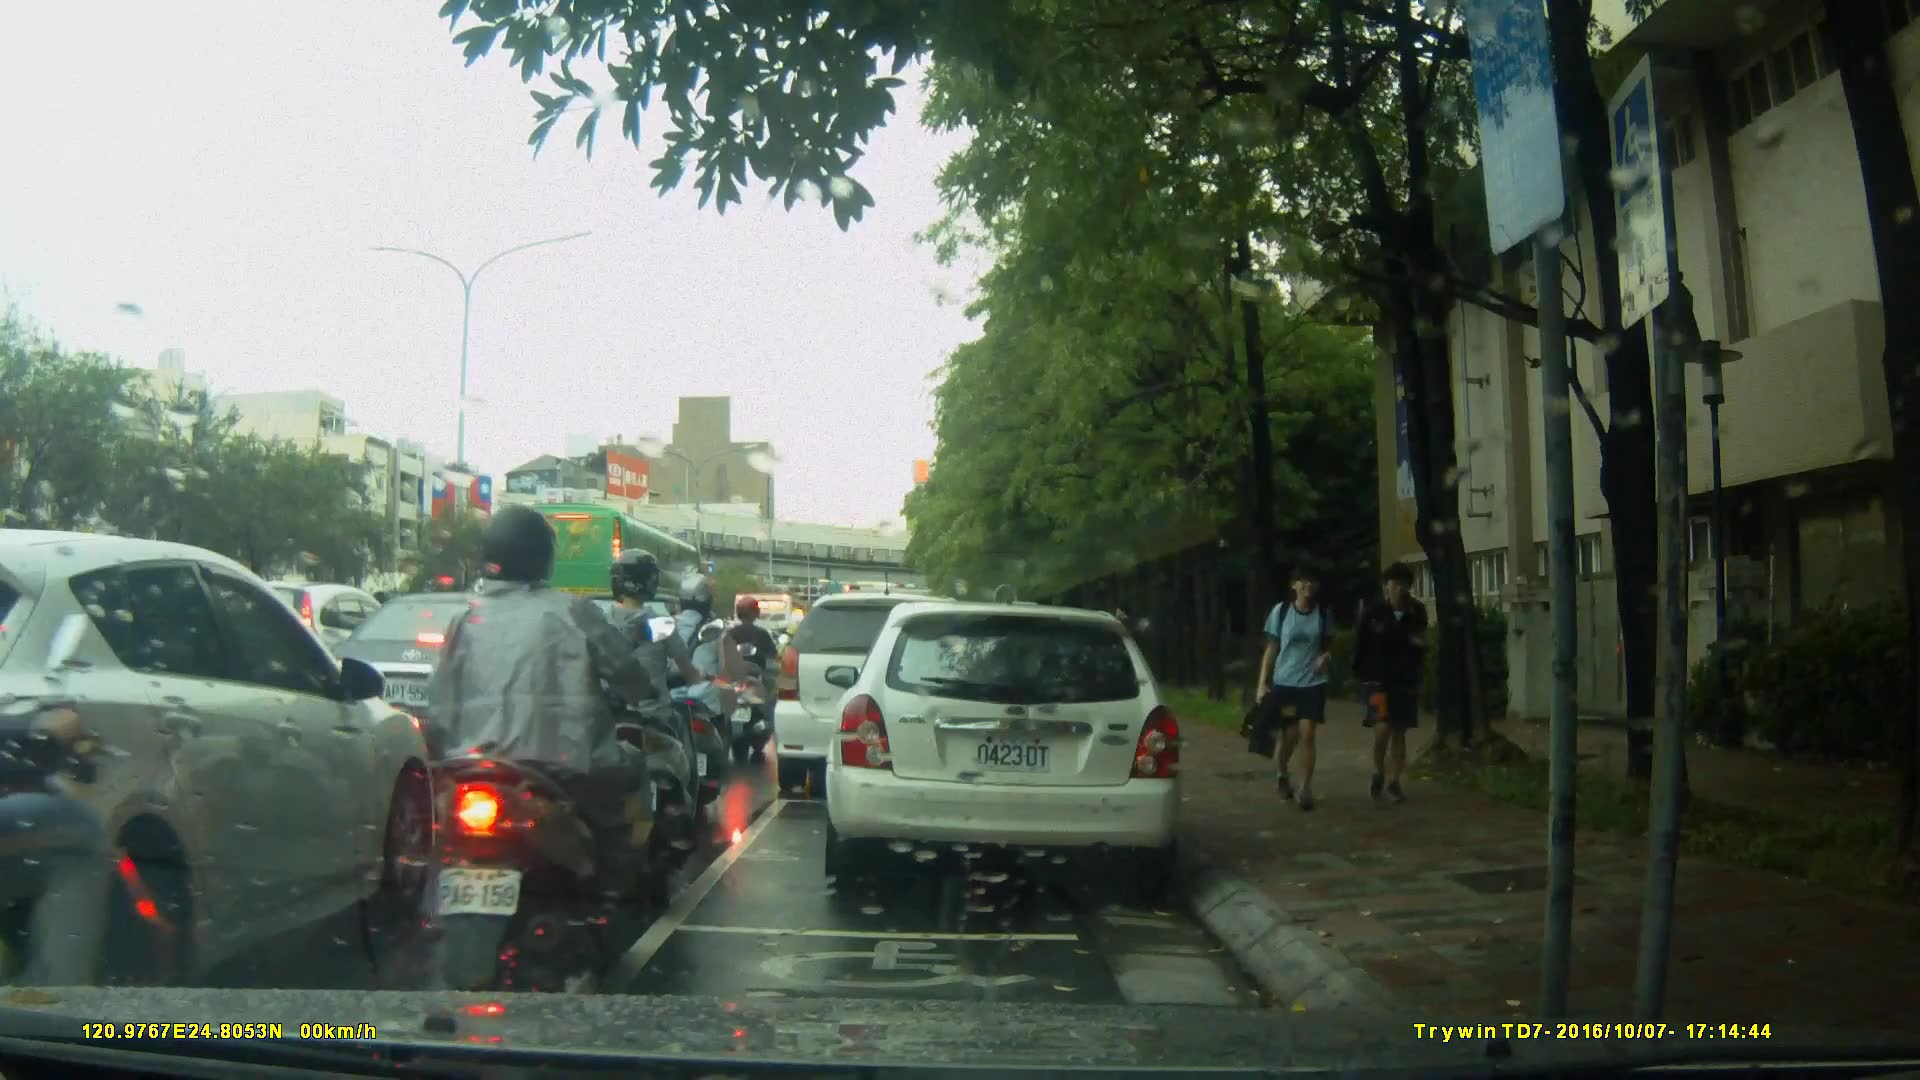pedestrian: (1232, 559, 1344, 817), (1353, 566, 1436, 807), (1112, 598, 1136, 677)
rider: (423, 505, 671, 999), (575, 551, 710, 885), (655, 573, 740, 806), (718, 597, 784, 766)
vehicle: (1, 528, 450, 988), (831, 592, 1196, 897), (316, 590, 628, 797), (770, 591, 999, 803), (495, 500, 707, 636)
